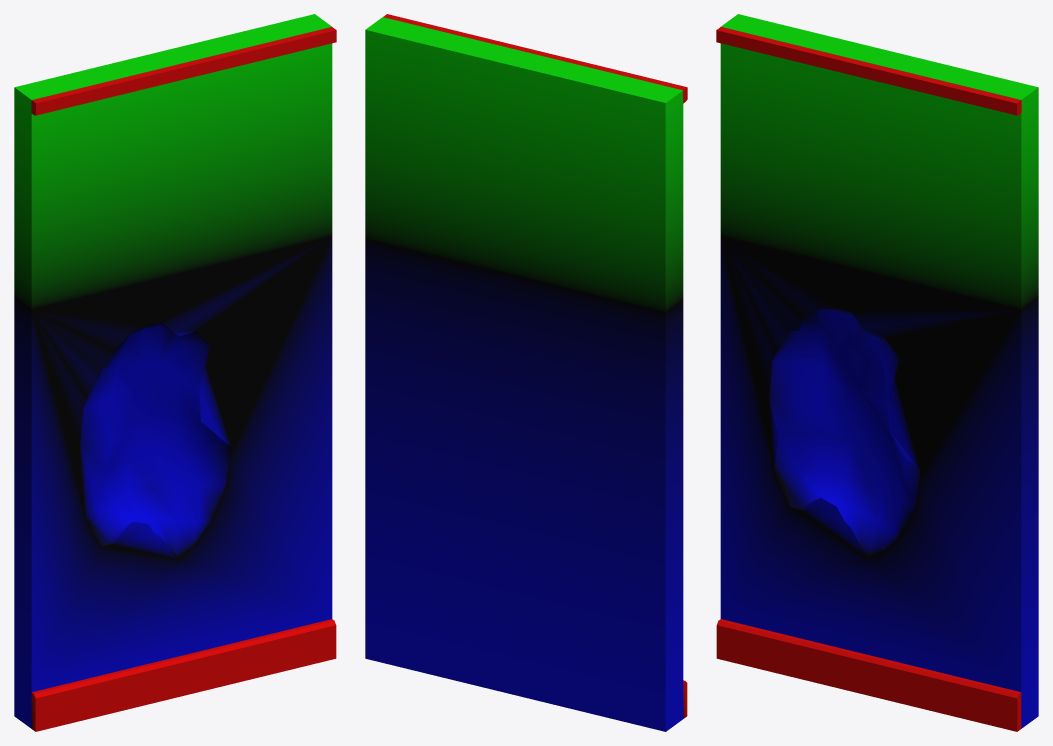
The model's file is WallV4-Damaged1.fbx.
3 renders of one model, left to right at view 1: azimuth 30°, elevation 25°; view 2: azimuth 150°, elevation 25°; view 3: azimuth 330°, elevation 25°, orthographic.
Parts seen in each view (by area): view 1: WallV4_Damaged1; view 2: WallV4_Damaged1; view 3: WallV4_Damaged1.
Part boxes in pixels (left/top/right/bottom): WallV4_Damaged1: left=14, top=14, right=336, bottom=731; WallV4_Damaged1: left=365, top=14, right=687, bottom=731; WallV4_Damaged1: left=716, top=14, right=1038, bottom=731.
Bounding box in the file's own units: 200 × 400 × 25.17.
